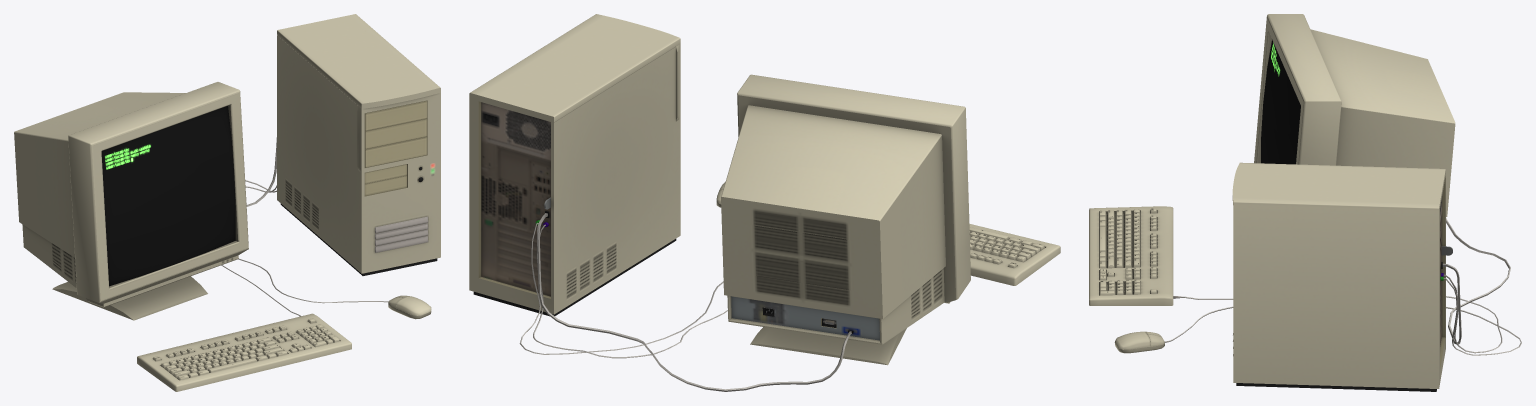
Rendered from retroPC.glb.
The picture shows the model from 3 angles, left to right: view 1: azimuth 30°, elevation 25°; view 2: azimuth 150°, elevation 25°; view 3: azimuth 270°, elevation 25°; orthographic projection. The views are drawn at different scales.
Parts seen in each view (by area): view 1: retro_computer_setup; view 2: retro_computer_setup; view 3: retro_computer_setup.
Part boxes in pixels (bbox=[...]): retro_computer_setup: bbox=[14, 14, 440, 391]; retro_computer_setup: bbox=[469, 14, 1060, 391]; retro_computer_setup: bbox=[1089, 14, 1521, 391].
Bounding box in the file's own units: 96.81 × 49.28 × 96.94.
1 material, 1 textured.
